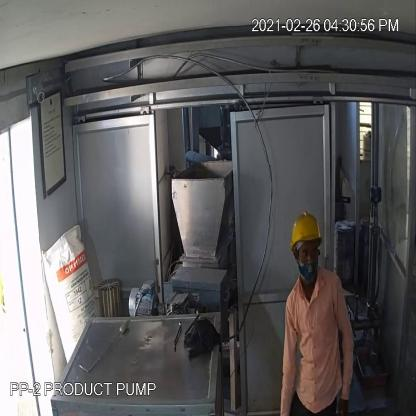helmet: (283, 206, 327, 259)
